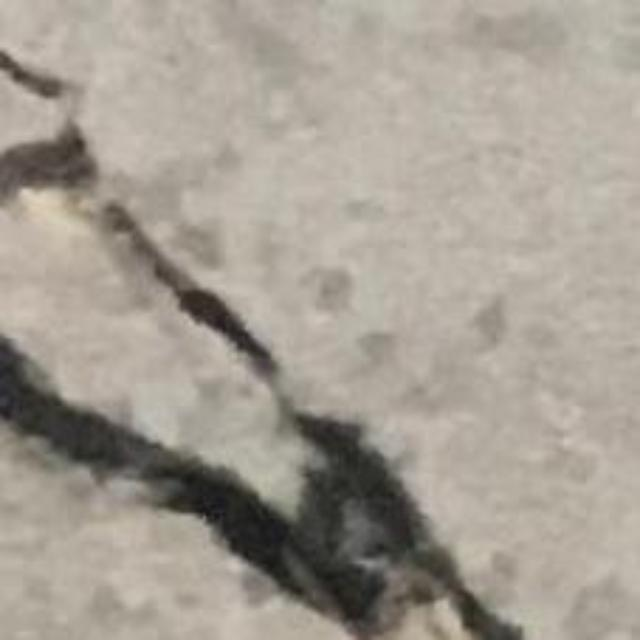crack: (0, 203, 524, 639)
